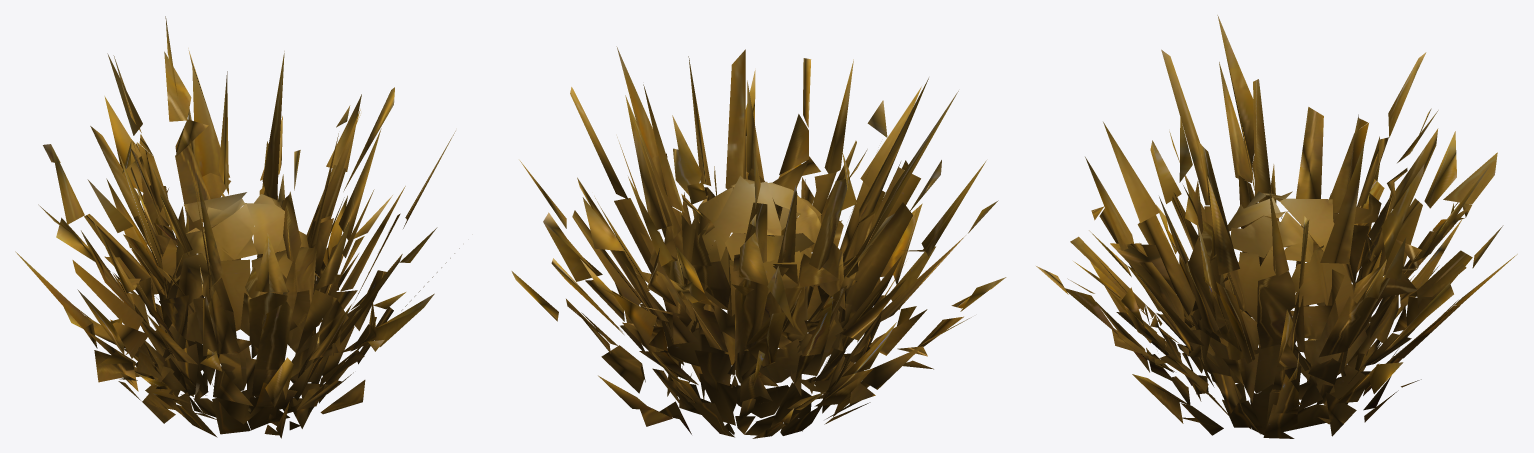
Rendered from desert_grass_blades_low_lod1.glb.
3 views of the same model, side by side, from view 1: azimuth 30°, elevation 25°; view 2: azimuth 150°, elevation 25°; view 3: azimuth 270°, elevation 25° (orthographic). The views are drawn at different scales.
Visible parts, largest first — view 1: desert_grass_blades_low.001; view 2: desert_grass_blades_low.001; view 3: desert_grass_blades_low.001.
Part boxes in pixels (<box>): desert_grass_blades_low.001: <box>15,16,459,438</box>; desert_grass_blades_low.001: <box>511,46,1006,438</box>; desert_grass_blades_low.001: <box>1036,15,1517,438</box>.
Bounding box in the file's own units: 0.7921 × 0.654 × 0.8492.
Materials: 1 (1 with a texture image).
